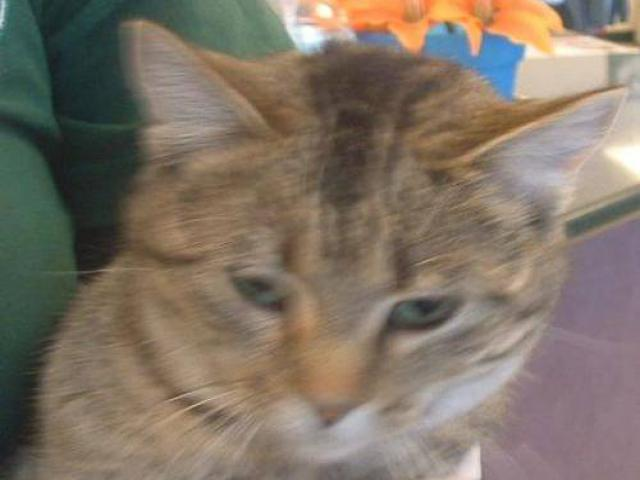cat: (66, 18, 626, 480)
